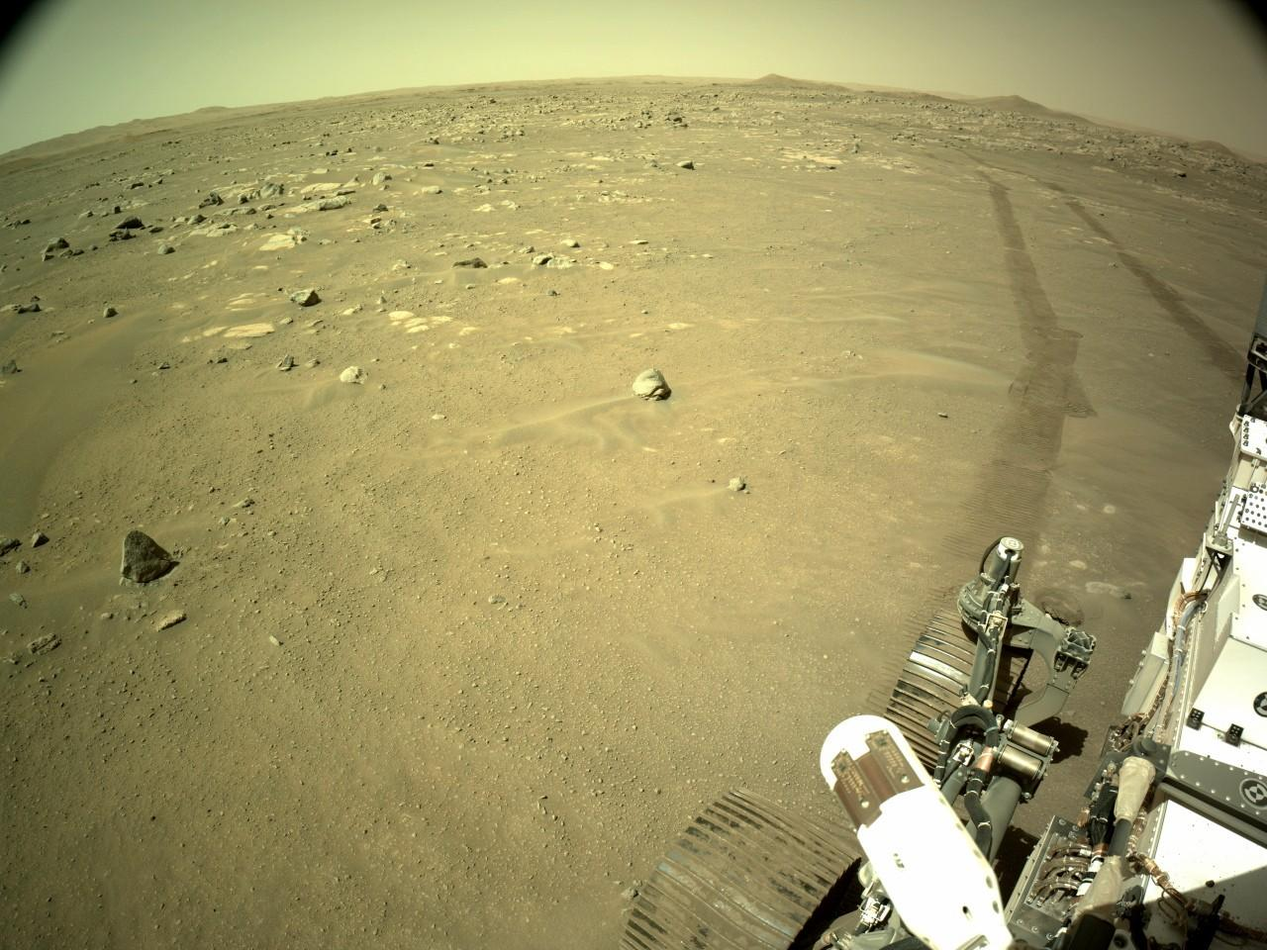bedrock: (13, 85, 1237, 384)
sand: (1, 304, 40, 651), (768, 70, 1079, 107), (517, 350, 565, 369), (148, 126, 205, 136), (18, 584, 26, 613), (823, 173, 850, 175)
soil: (1, 173, 1260, 949), (12, 542, 17, 589)
